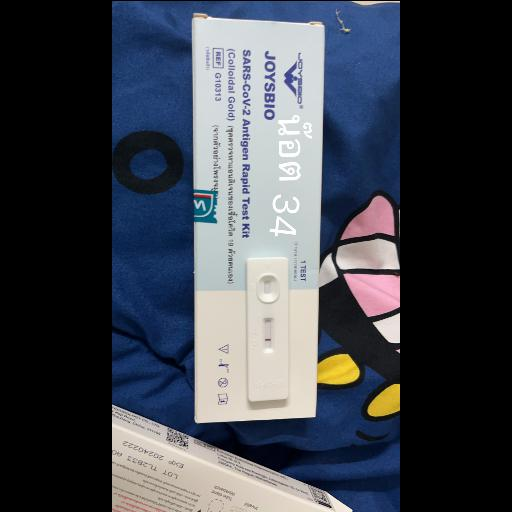Neg: (246, 258, 286, 402)
